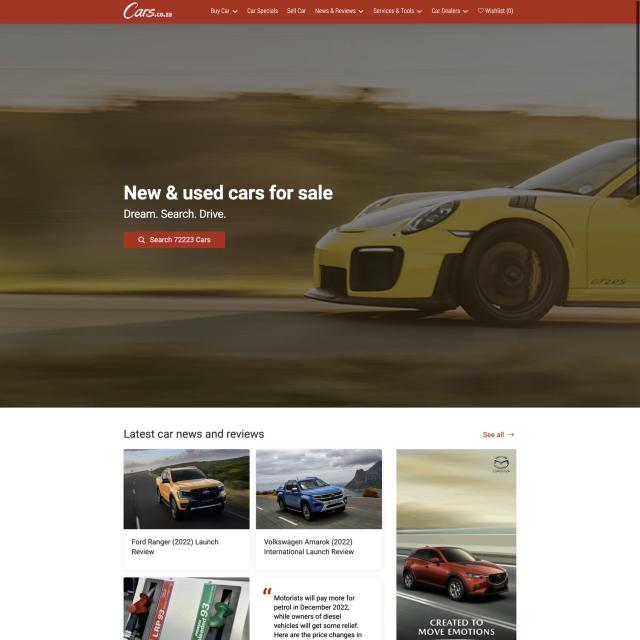logo: (122, 2, 173, 20)
navigation: (207, 4, 516, 17)
